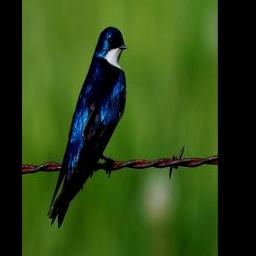Swallow: (47, 26, 128, 228)
